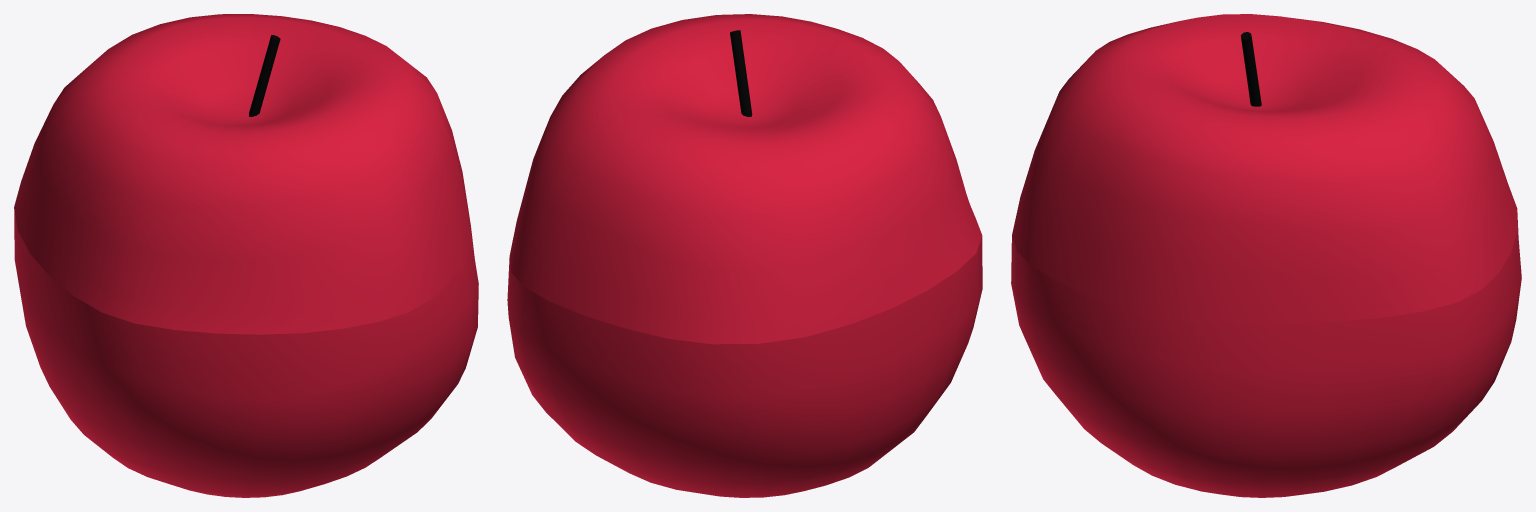
The model's file is Fruit_Apple_Sliced.fbx.
3 views of the same model, side by side, from view 1: azimuth 30°, elevation 25°; view 2: azimuth 150°, elevation 25°; view 3: azimuth 270°, elevation 25° (orthographic). The views are drawn at different scales.
Visible parts, largest first — view 1: Apple_Top, Apple_Bottom; view 2: Apple_Top, Apple_Bottom; view 3: Apple_Top, Apple_Bottom.
Boxes of the visible parts, bbox=[...] form: Apple_Top: bbox=[14, 14, 472, 334]; Apple_Bottom: bbox=[14, 207, 478, 497]; Apple_Top: bbox=[509, 14, 982, 344]; Apple_Bottom: bbox=[507, 236, 982, 497]; Apple_Top: bbox=[1012, 14, 1517, 324]; Apple_Bottom: bbox=[1011, 213, 1521, 497].
Bounding box in the file's own units: 157 × 169 × 175.
